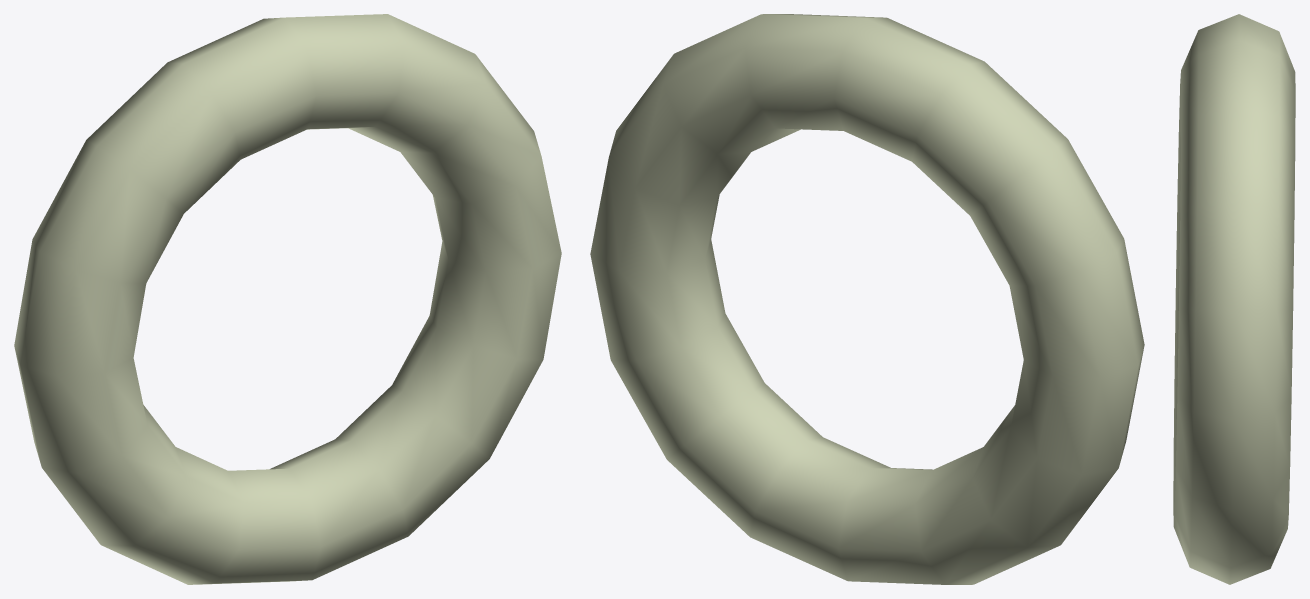
The model's file is zipLineHandleTemp.obj.
3 views of the same model, side by side, from view 1: azimuth 30°, elevation 25°; view 2: azimuth 150°, elevation 25°; view 3: azimuth 270°, elevation 25° (orthographic). The views are drawn at different scales.
Visible parts, largest first — view 1: Torus1; view 2: Torus1; view 3: Torus1.
Boxes of the visible parts, x1,y1,x2,y2 form: Torus1: [14, 14, 561, 584]; Torus1: [590, 14, 1144, 584]; Torus1: [1173, 14, 1295, 584].
Bounding box in the file's own units: 1.21 × 1.2 × 0.2578.
